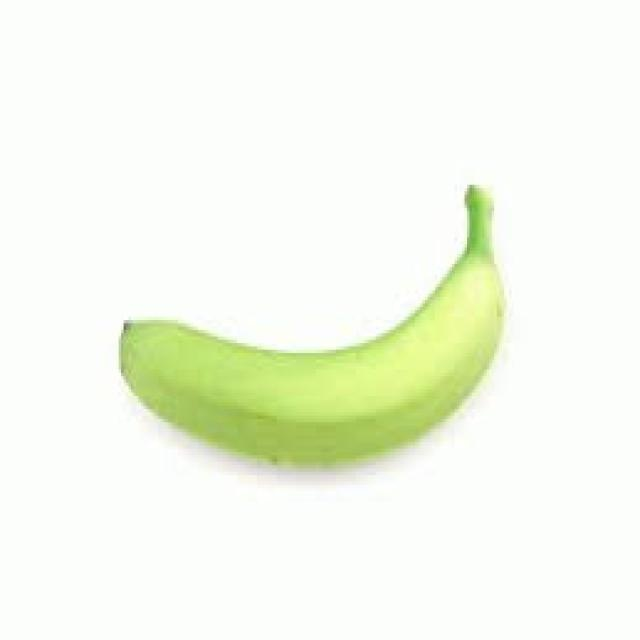agrume: (114, 186, 504, 471)
